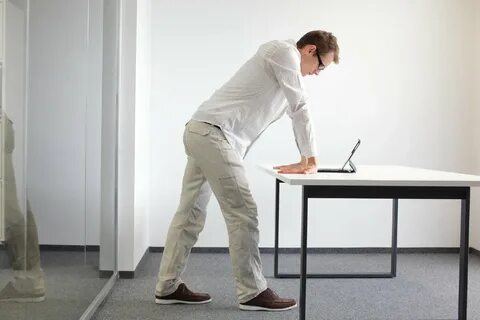awake: (153, 29, 341, 313)
